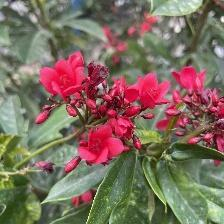jatropha: (36, 51, 94, 104)
